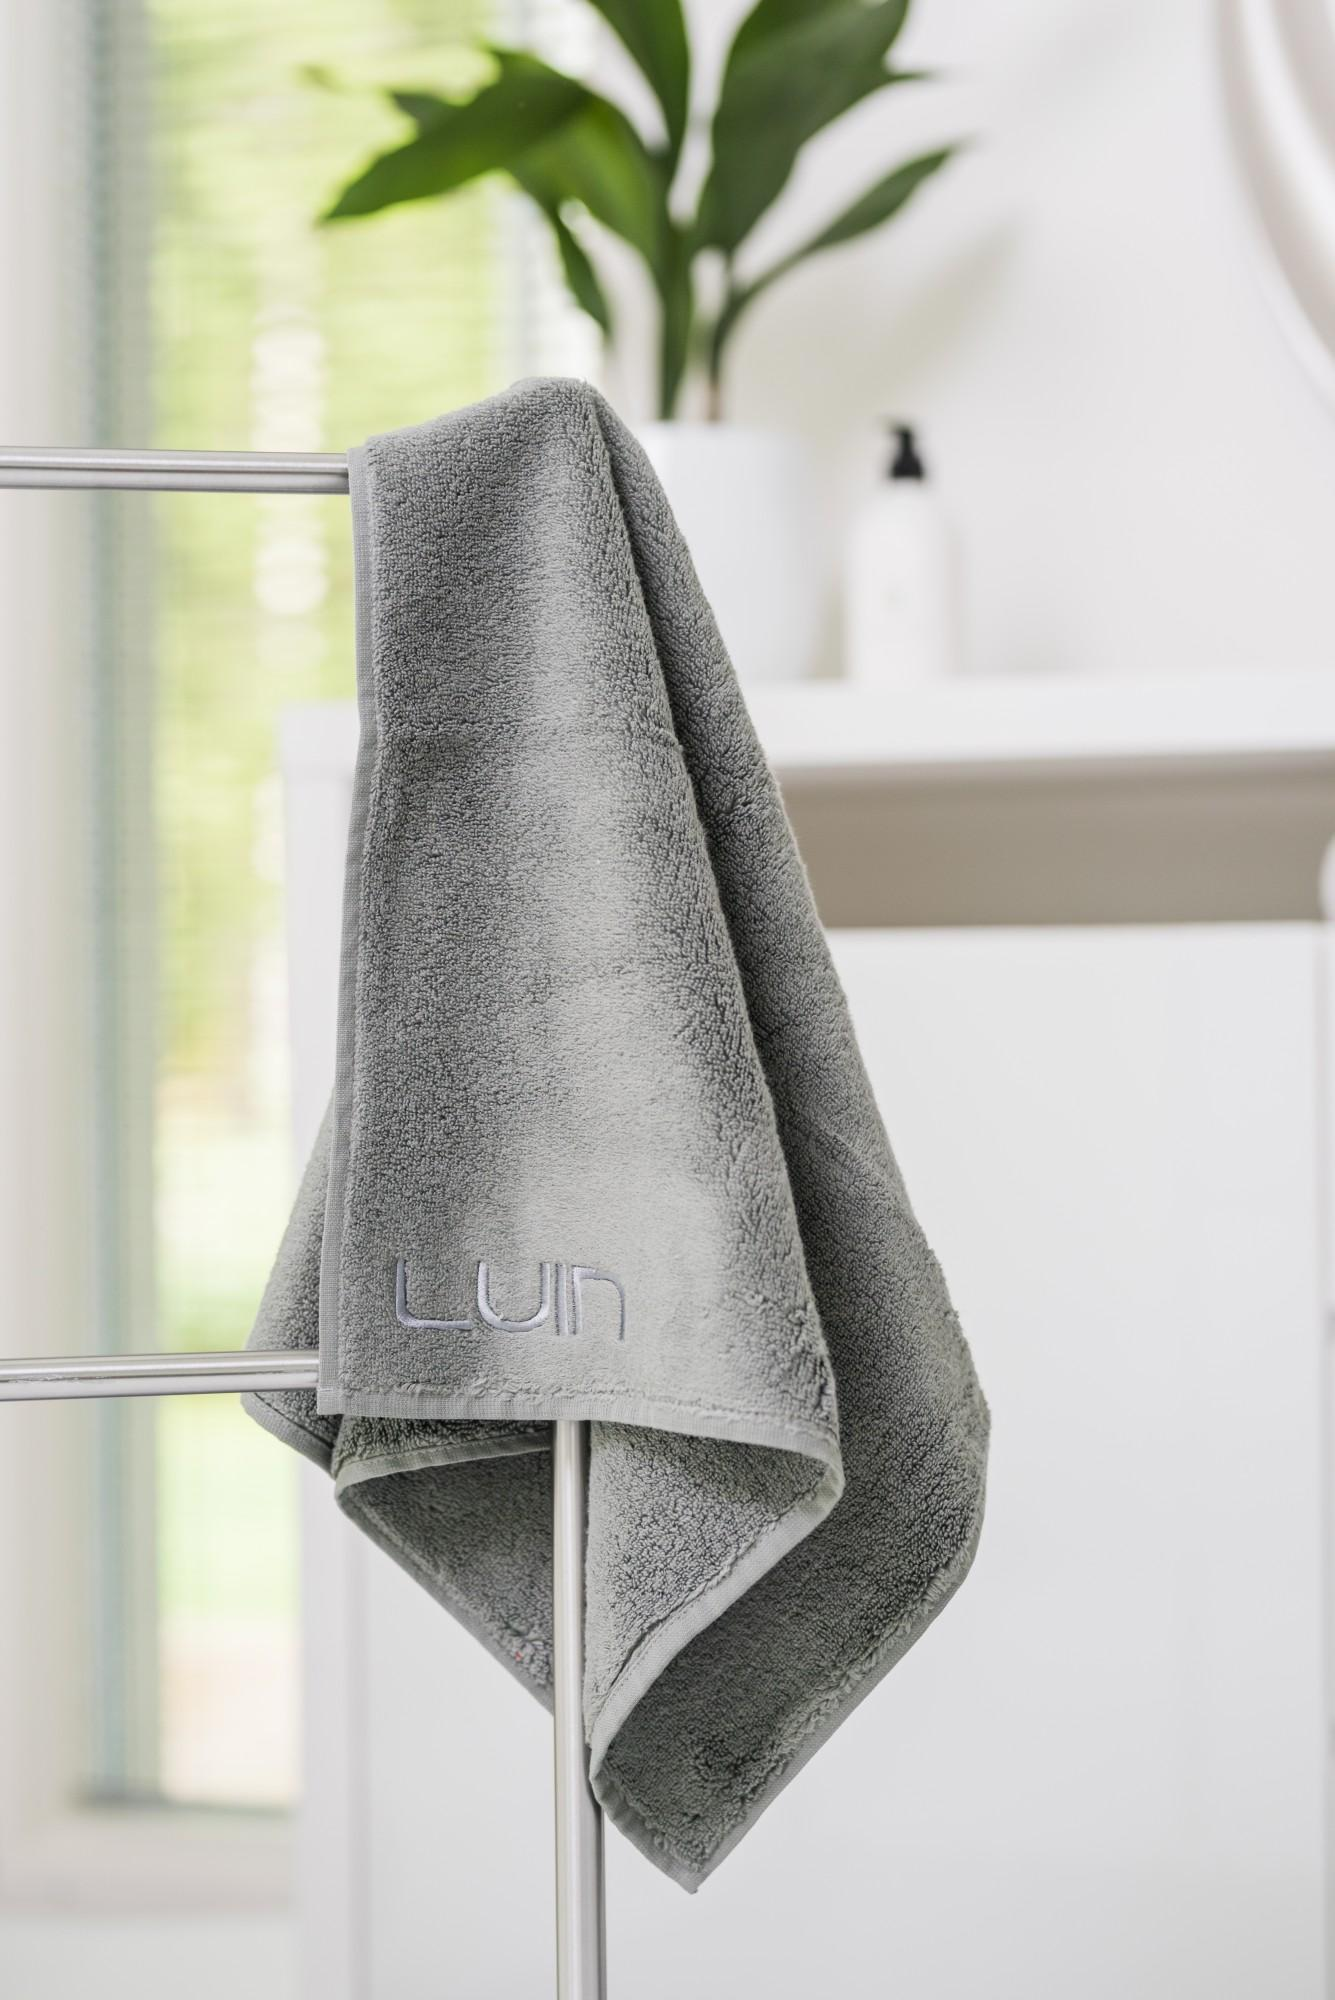towel: (346, 405, 945, 1809)
